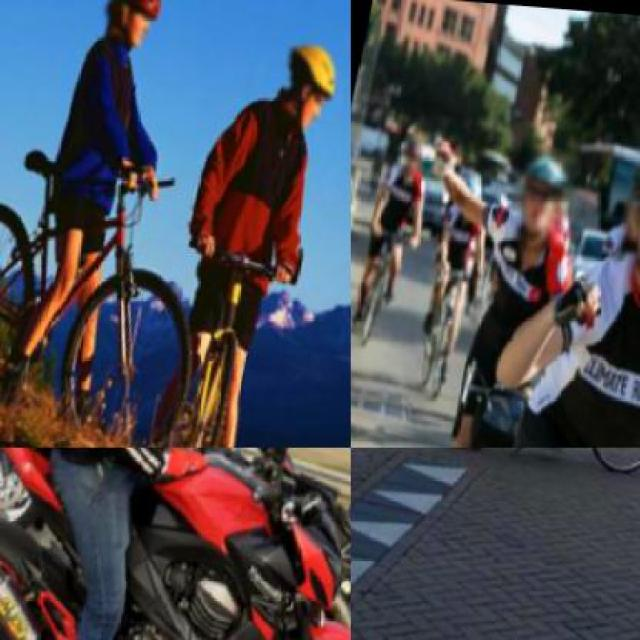With Helmet: (504, 134, 582, 249), (273, 20, 345, 132), (606, 106, 639, 305), (94, 0, 168, 51), (397, 132, 426, 180)
